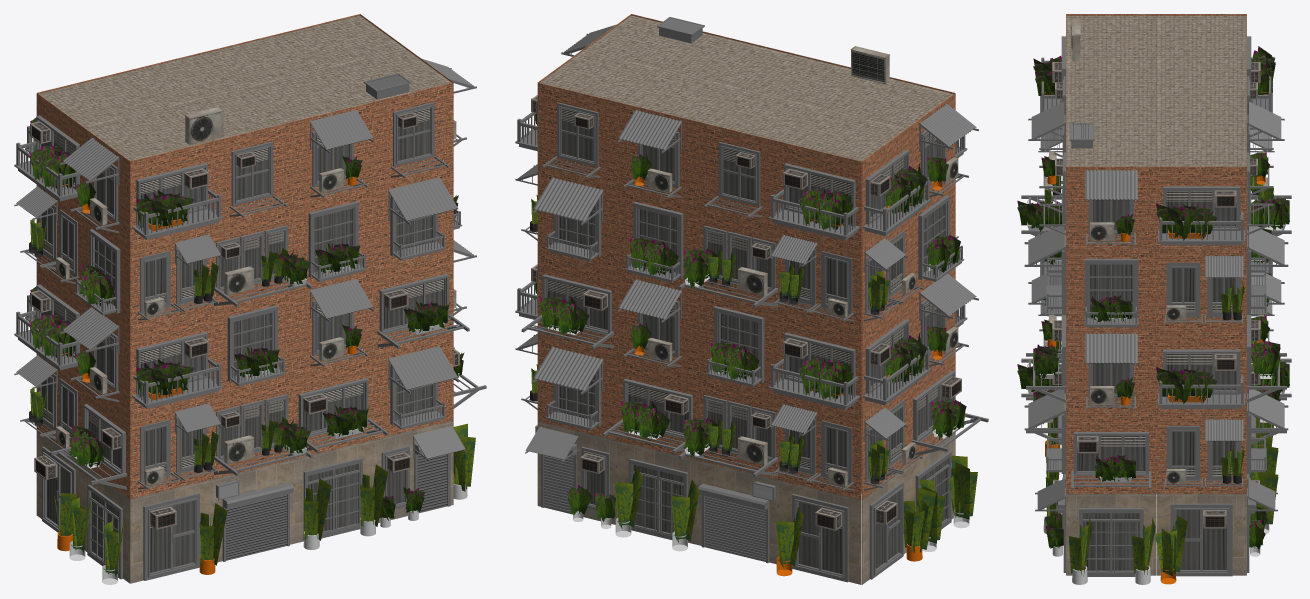
The model's file is bldg_05_terracotta_shop.glb.
3 renders of one model, left to right at view 1: azimuth 30°, elevation 25°; view 2: azimuth 150°, elevation 25°; view 3: azimuth 270°, elevation 25°, orthographic. The views are drawn at different scales.
Parts seen in each view (by area): view 1: bldg_05_terracotta_shop; view 2: bldg_05_terracotta_shop; view 3: bldg_05_terracotta_shop.
Part boxes in pixels (x1,y1,x2,y2): bldg_05_terracotta_shop: (14,14,486,584); bldg_05_terracotta_shop: (515,14,988,584); bldg_05_terracotta_shop: (1017,14,1291,584).
Bounding box in the file's own units: 9.79 × 10.6 × 6.18.
Materials: 6 (6 with a texture image).
